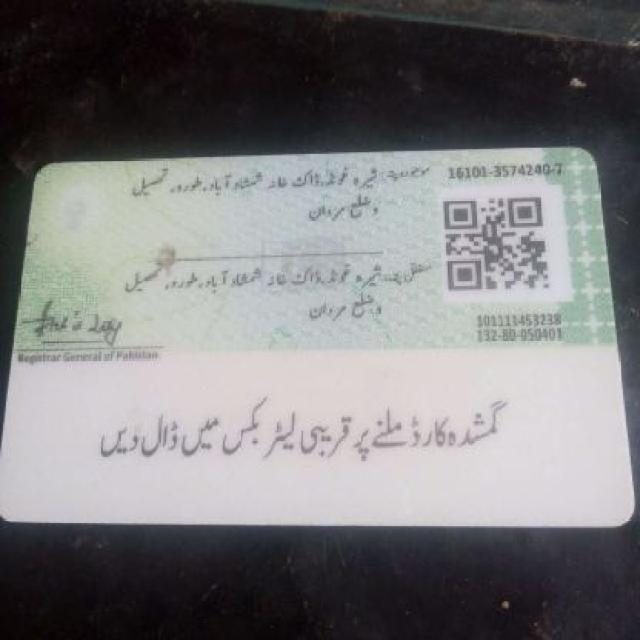Back: (9, 151, 625, 532)
